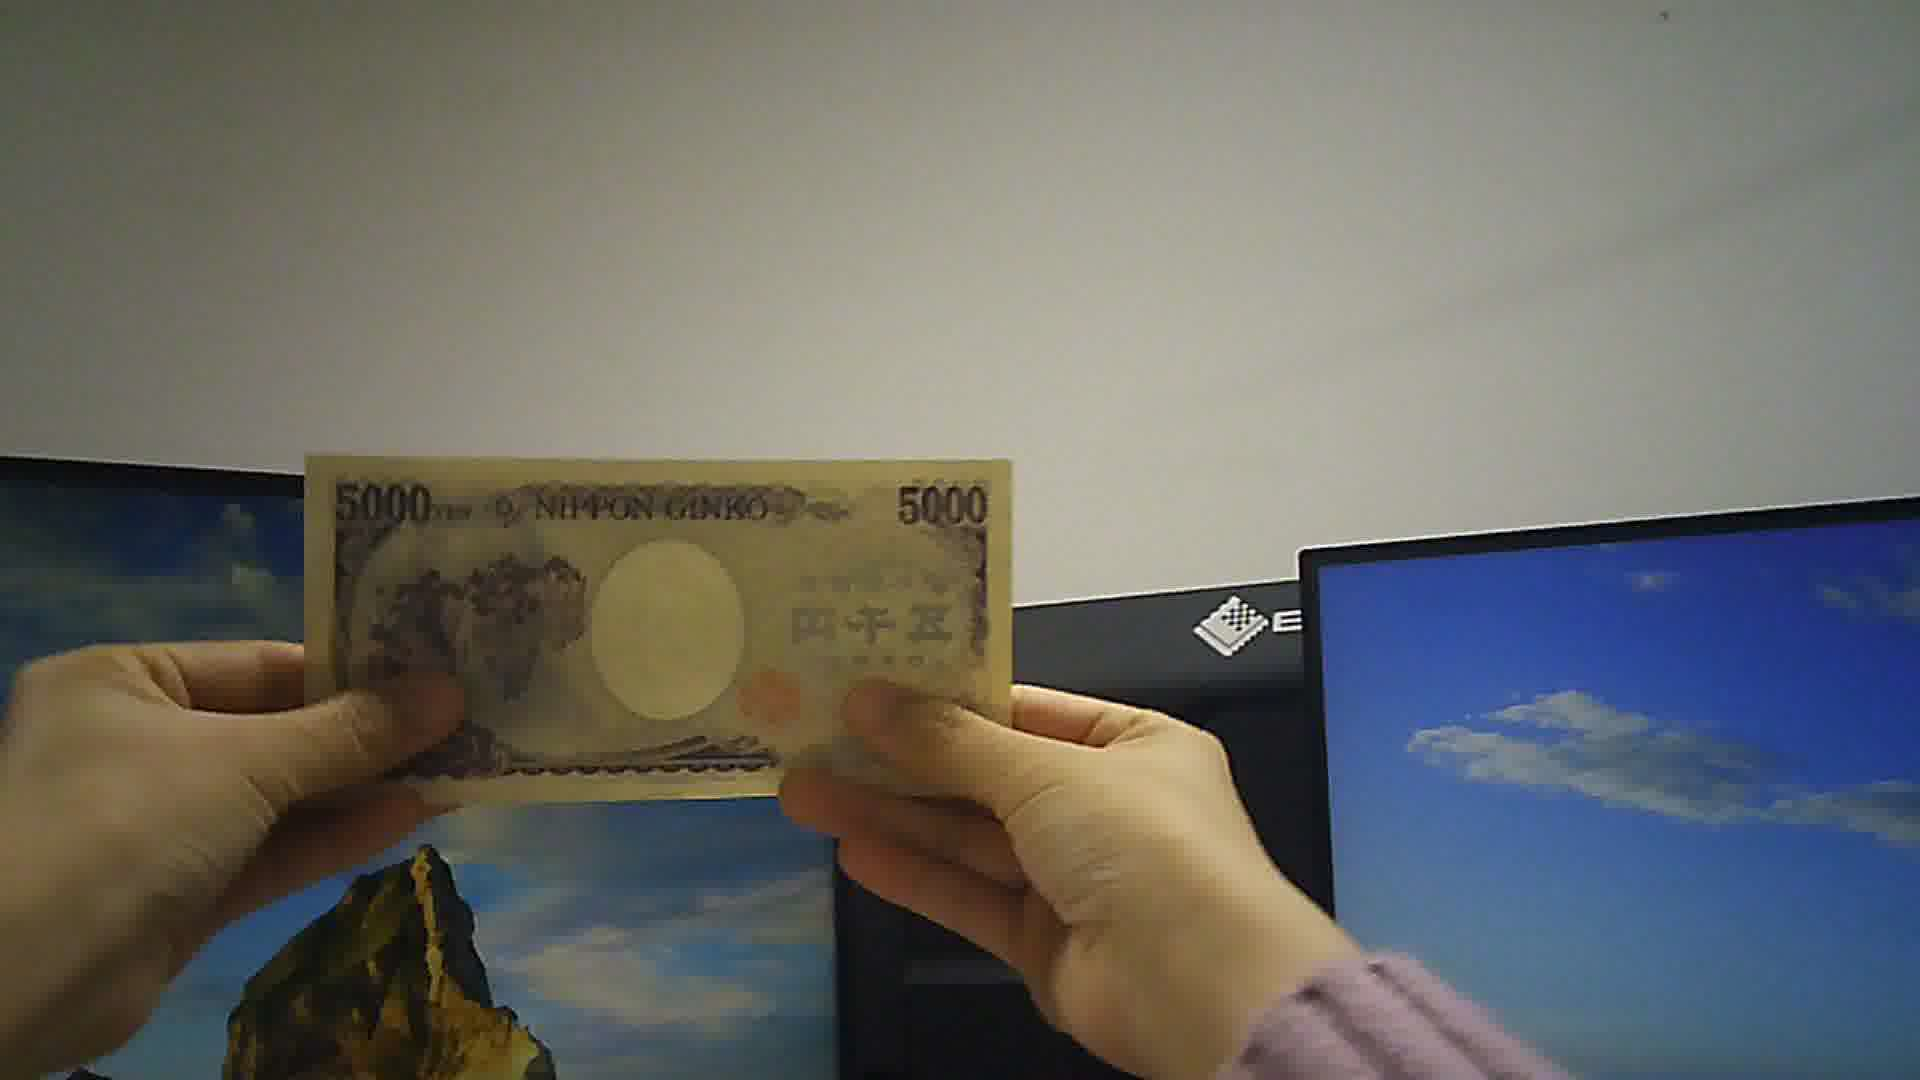5,000 Yen: (289, 436, 1038, 828)
